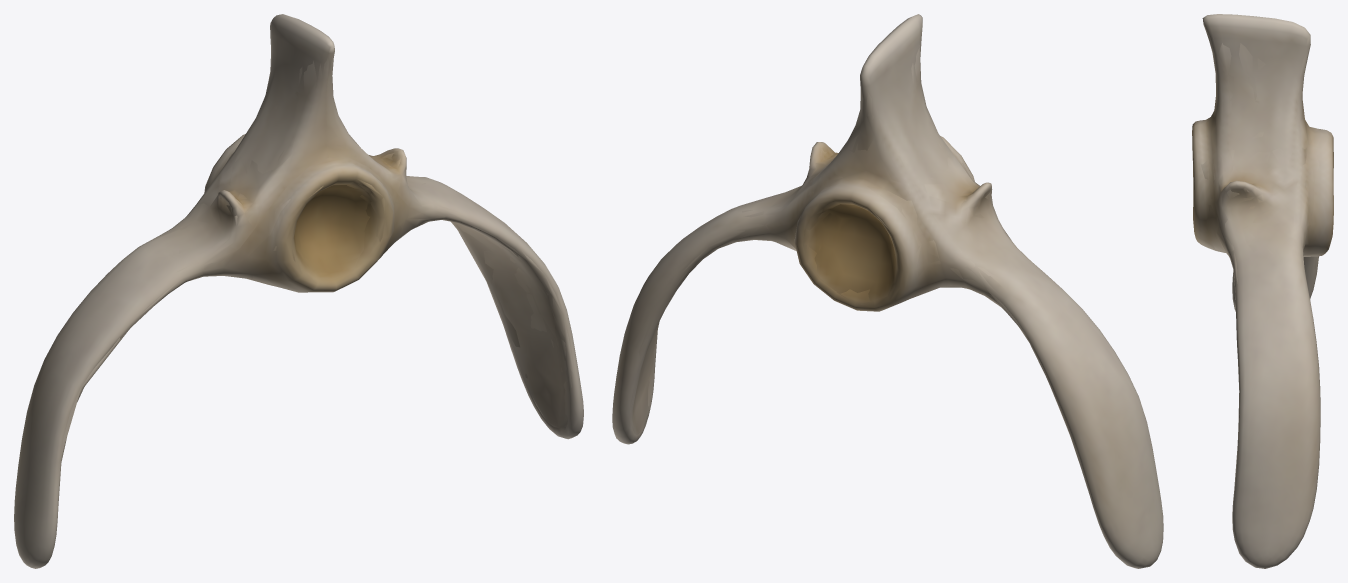
File: vertebrae lumbales 5.fbx
3 renders of one model, left to right at view 1: azimuth 30°, elevation 25°; view 2: azimuth 150°, elevation 25°; view 3: azimuth 270°, elevation 25°, orthographic. The views are drawn at different scales.
Parts seen in each view (by area): view 1: vertebrae lumbales 5, vertebrae lumbales 5 low; view 2: vertebrae lumbales 5, vertebrae lumbales 5 low; view 3: vertebrae lumbales 5, vertebrae lumbales 5 low.
Boxes of the visible parts, x1,y1,x2,y2 form: vertebrae lumbales 5: (14, 14, 583, 568); vertebrae lumbales 5 low: (57, 56, 574, 505); vertebrae lumbales 5: (612, 14, 1163, 568); vertebrae lumbales 5 low: (631, 45, 1087, 488); vertebrae lumbales 5: (1192, 14, 1333, 568); vertebrae lumbales 5 low: (1201, 22, 1333, 486).
Bounding box in the file's own units: 10.8 × 9.04 × 2.66.
1 material, 1 textured.
